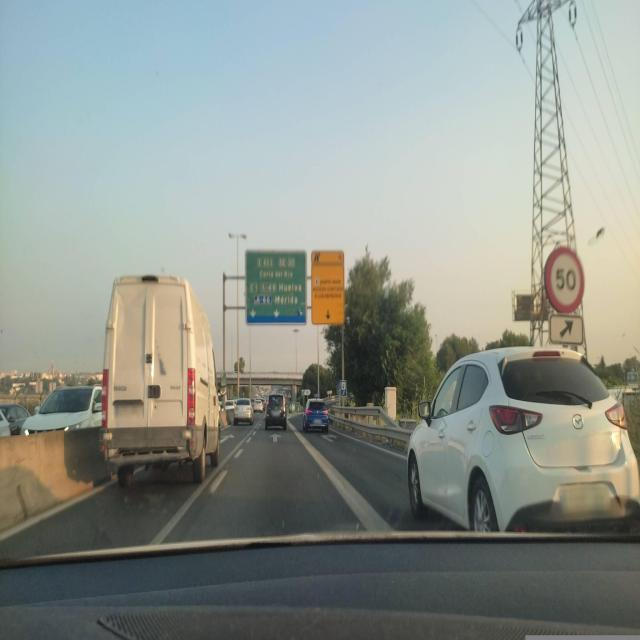car: (406, 342, 637, 534), (100, 273, 222, 489), (20, 383, 102, 438), (302, 398, 330, 433), (0, 402, 30, 433), (264, 392, 288, 430), (233, 397, 254, 426), (0, 404, 12, 439)
